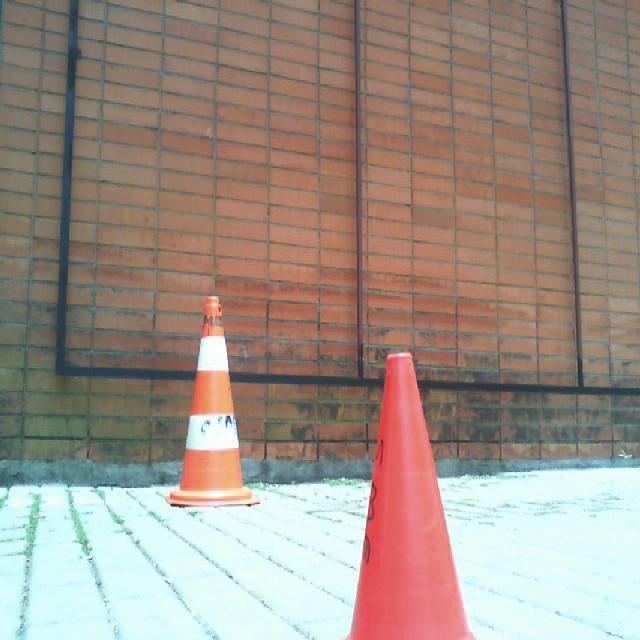cone: (344, 354, 478, 640), (164, 296, 264, 507)
